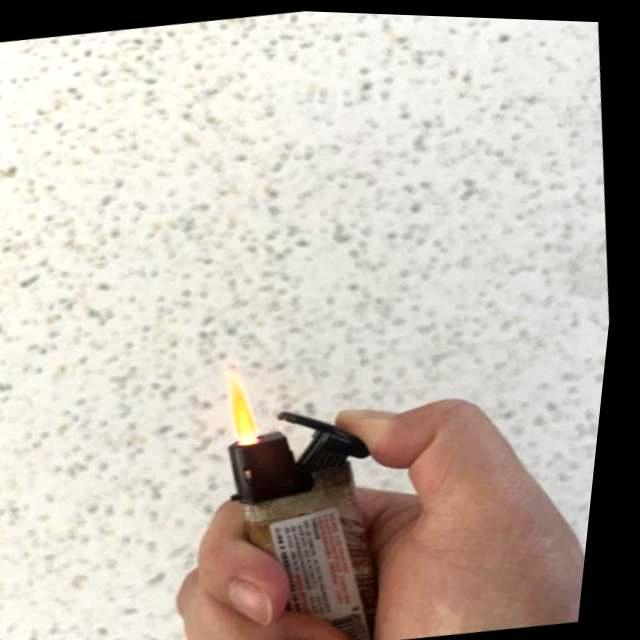fire: (227, 364, 273, 438)
